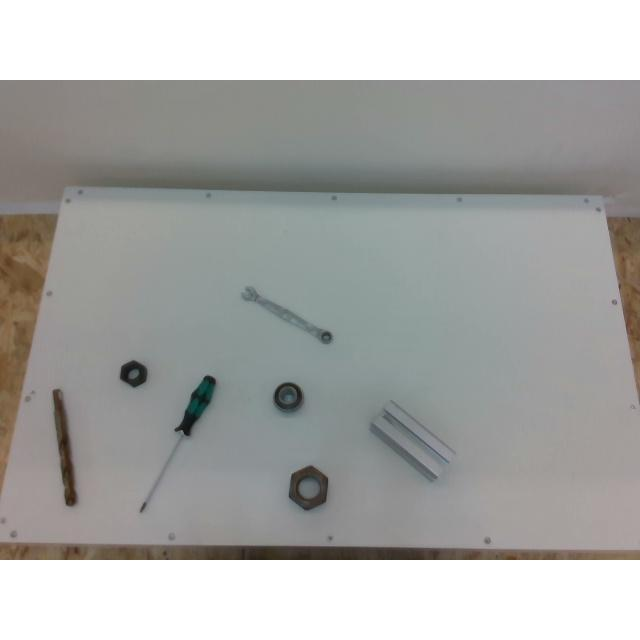Bearing2: (273, 382, 303, 412)
Drill: (52, 389, 76, 506)
M20: (120, 360, 148, 388)
M30: (289, 466, 327, 509)
S40_40_G: (370, 401, 454, 479)
Screwdriver: (139, 376, 215, 512)
Wrench: (241, 286, 333, 344)
